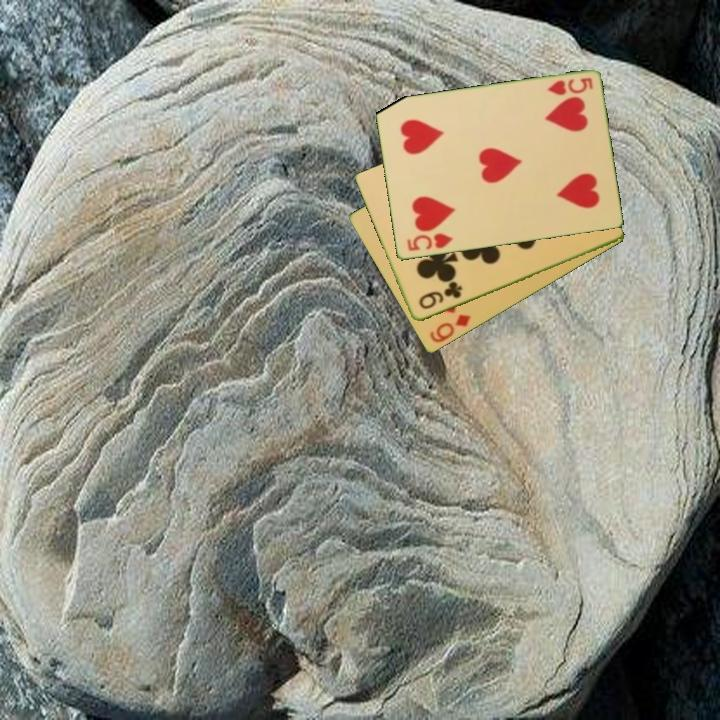5h: (543, 74, 595, 99), (403, 230, 456, 254)
6d: (426, 311, 473, 346)
9c: (415, 280, 465, 313)
